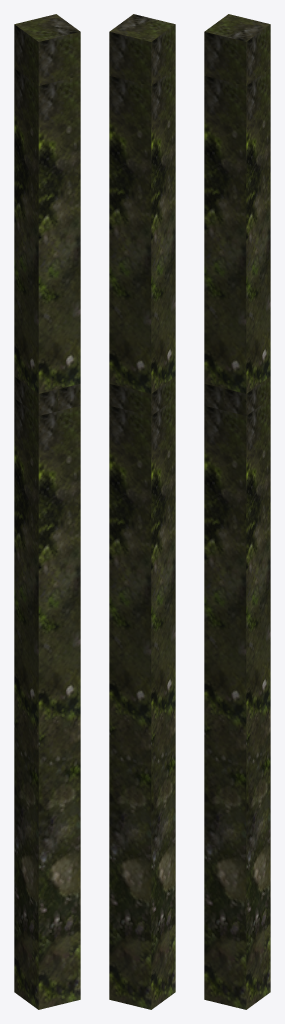
File: stairway1-metal-rail-end.obj
3 renders of one model, left to right at view 1: azimuth 30°, elevation 25°; view 2: azimuth 150°, elevation 25°; view 3: azimuth 330°, elevation 25°, orthographic.
Visible parts, largest first — view 1: stairway1-metal-rail-end; view 2: stairway1-metal-rail-end; view 3: stairway1-metal-rail-end.
Part boxes in pixels (box(x1,y1,x2,y2)): stairway1-metal-rail-end: box(14, 14, 80, 1009); stairway1-metal-rail-end: box(109, 14, 175, 1009); stairway1-metal-rail-end: box(204, 14, 270, 1009).
Size of the model in its own units: 0.0625 by 1.38 by 0.0625.
